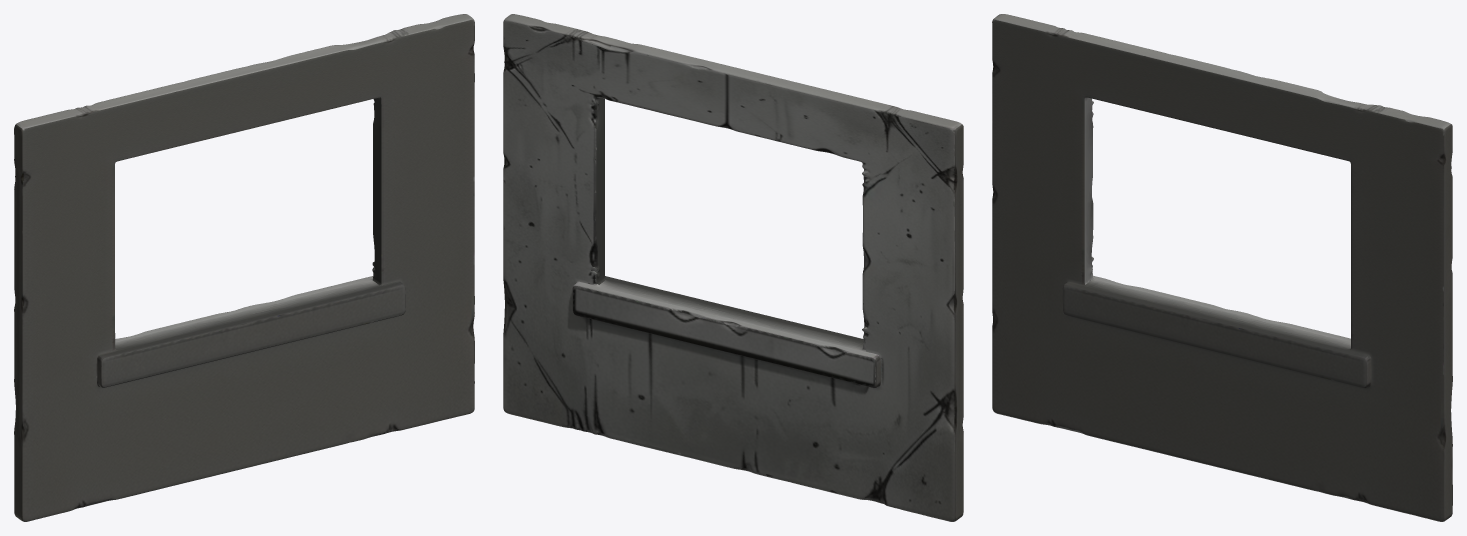
Rendered from Wall-Concrete-3.glb.
3 views of the same model, side by side, from view 1: azimuth 30°, elevation 25°; view 2: azimuth 150°, elevation 25°; view 3: azimuth 330°, elevation 25° (orthographic).
Visible parts, largest first — view 1: tmpi696rlev.ply; view 2: tmpi696rlev.ply; view 3: tmpi696rlev.ply.
Boxes of the visible parts, x1,y1,x2,y2 form: tmpi696rlev.ply: (14,14,474,521); tmpi696rlev.ply: (503,14,963,521); tmpi696rlev.ply: (992,14,1452,521).
Bounding box in the file's own units: 3 × 2.5 × 0.2.
1 material, 1 textured.
